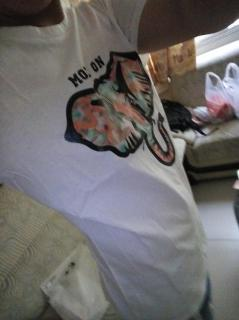short sleeve top: (0, 0, 210, 319)
